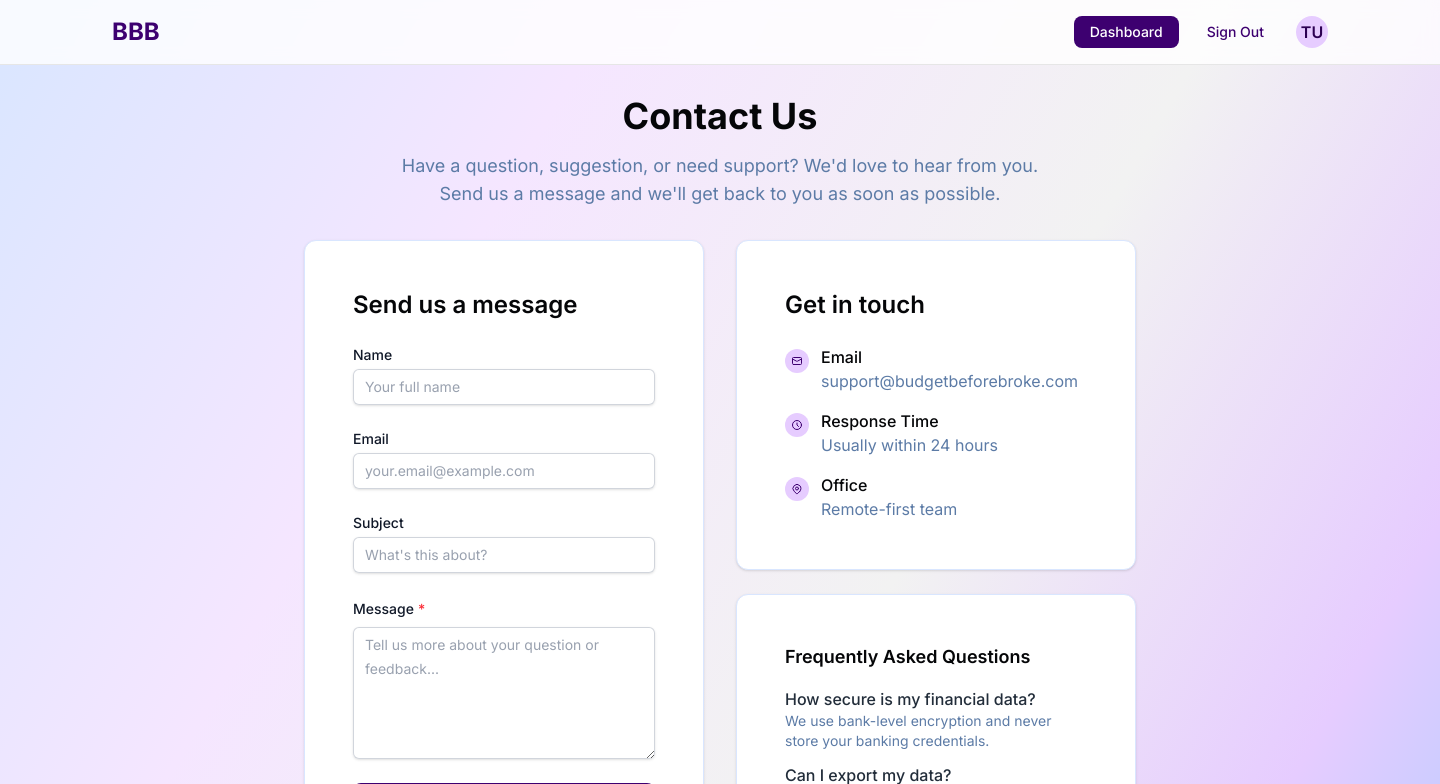
it: ContactPage › should show validation error for message that is too short
Type "Hi" into the text box with placeholder "Tell us more about your question or feedback...".
click(504, 693); type("Hi")  # box [353,627,655,759]
(page scrolled)
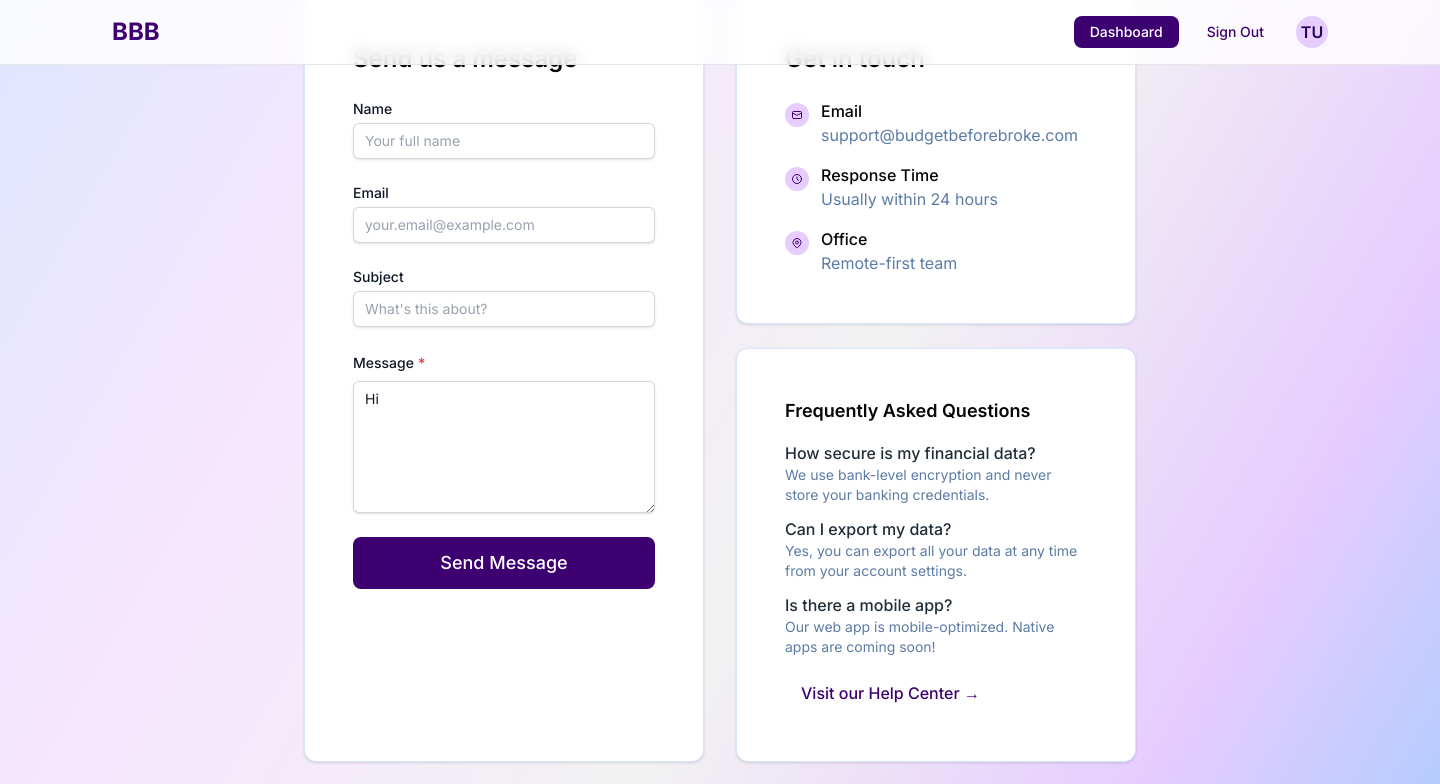
Click the button "Send Message".
click(504, 563)  # box [353,537,655,589]
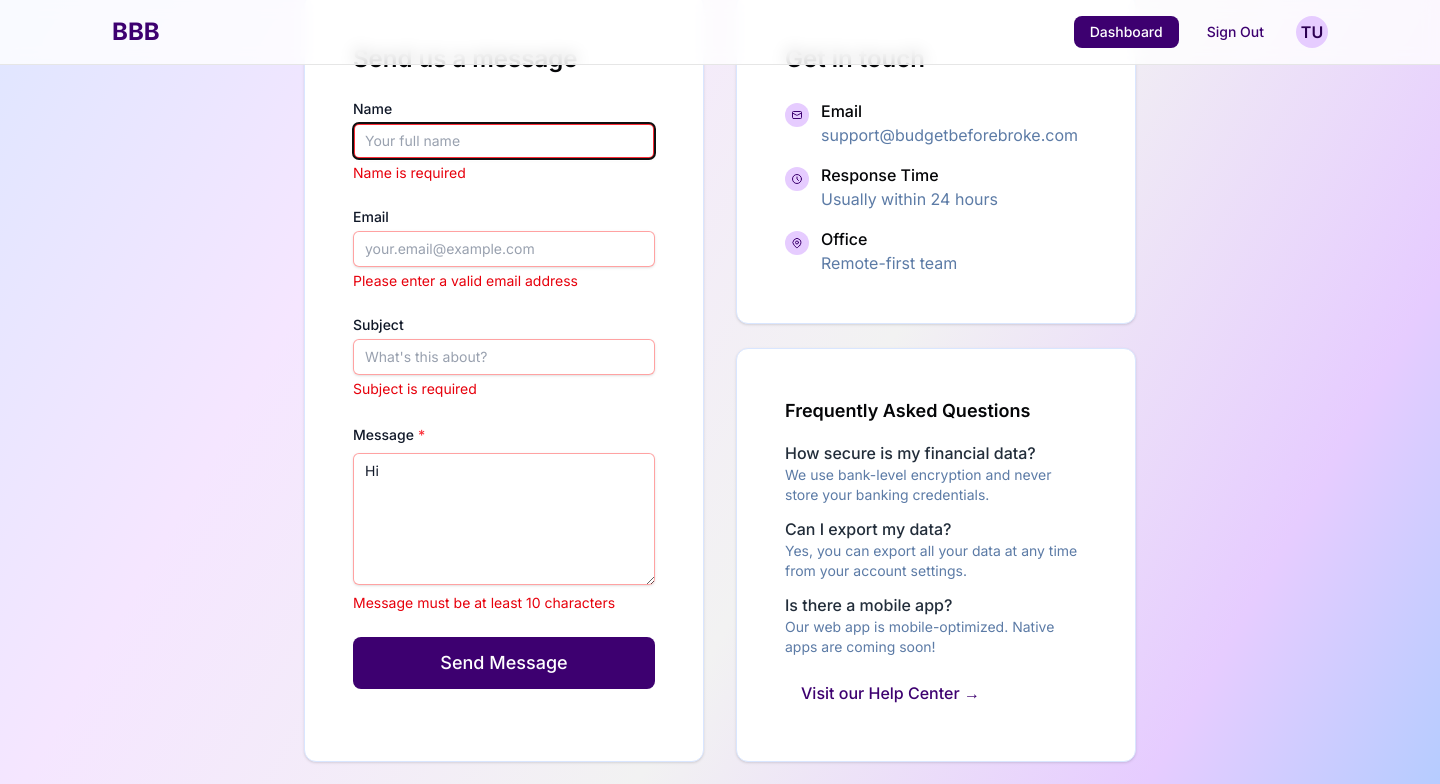
Now the text "Message must be at least 10 characters" is shown, box [353,593,655,613]
